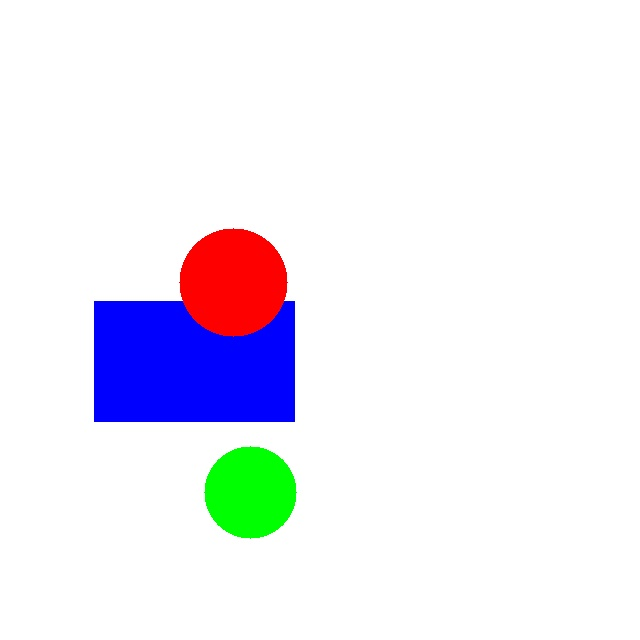cartao: (94, 301, 294, 421)
rosca_externa: (204, 446, 296, 538)
rosca_interna: (179, 228, 287, 336)
